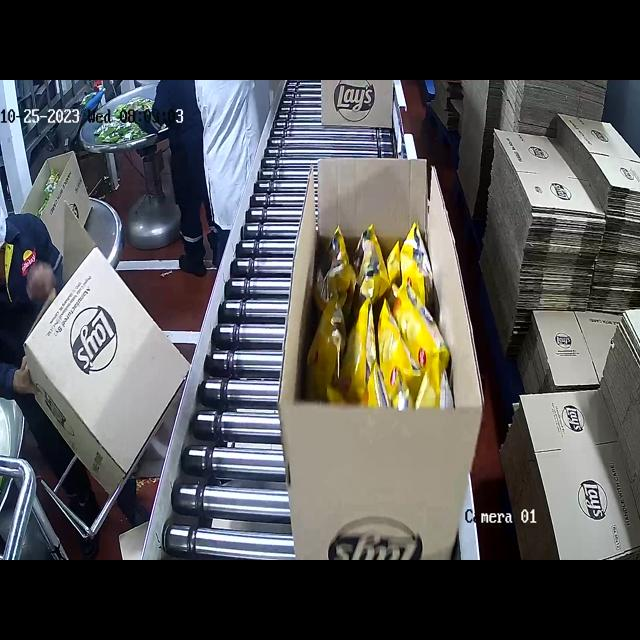salted: (305, 220, 452, 409)
